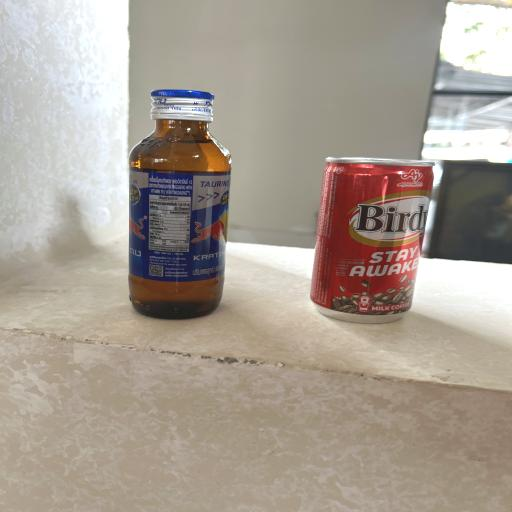birdy: (308, 152, 434, 330)
bo_huc: (118, 82, 244, 325)
